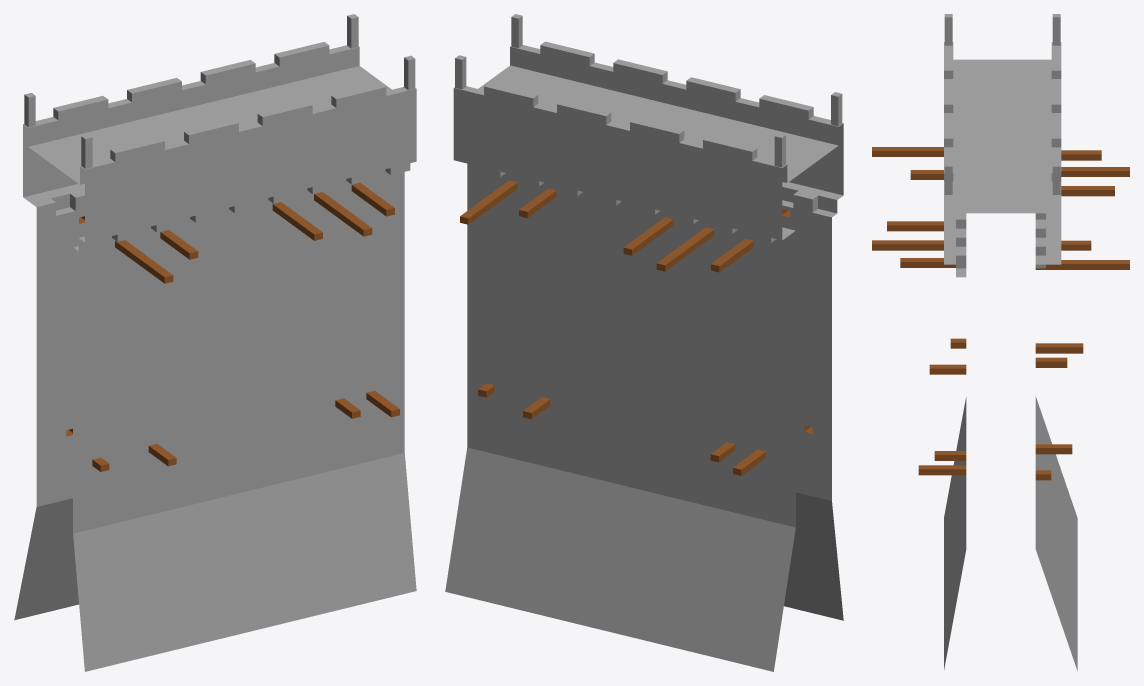
Rendered from Building_Fortress_Castle_Wall_Large_04.fbx.
3 renders of one model, left to right at view 1: azimuth 30°, elevation 25°; view 2: azimuth 150°, elevation 25°; view 3: azimuth 270°, elevation 25°, orthographic. The views are drawn at different scales.
Visible parts, largest first — view 1: Building_Fortress_Castle_Wall_Large_04; view 2: Building_Fortress_Castle_Wall_Large_04; view 3: Building_Fortress_Castle_Wall_Large_04.
Boxes of the visible parts, x1,y1,x2,y2 form: Building_Fortress_Castle_Wall_Large_04: [14, 14, 416, 671]; Building_Fortress_Castle_Wall_Large_04: [445, 14, 843, 671]; Building_Fortress_Castle_Wall_Large_04: [872, 14, 1129, 670].
Size of the model in its own units: 7689 by 11788 by 5458.
